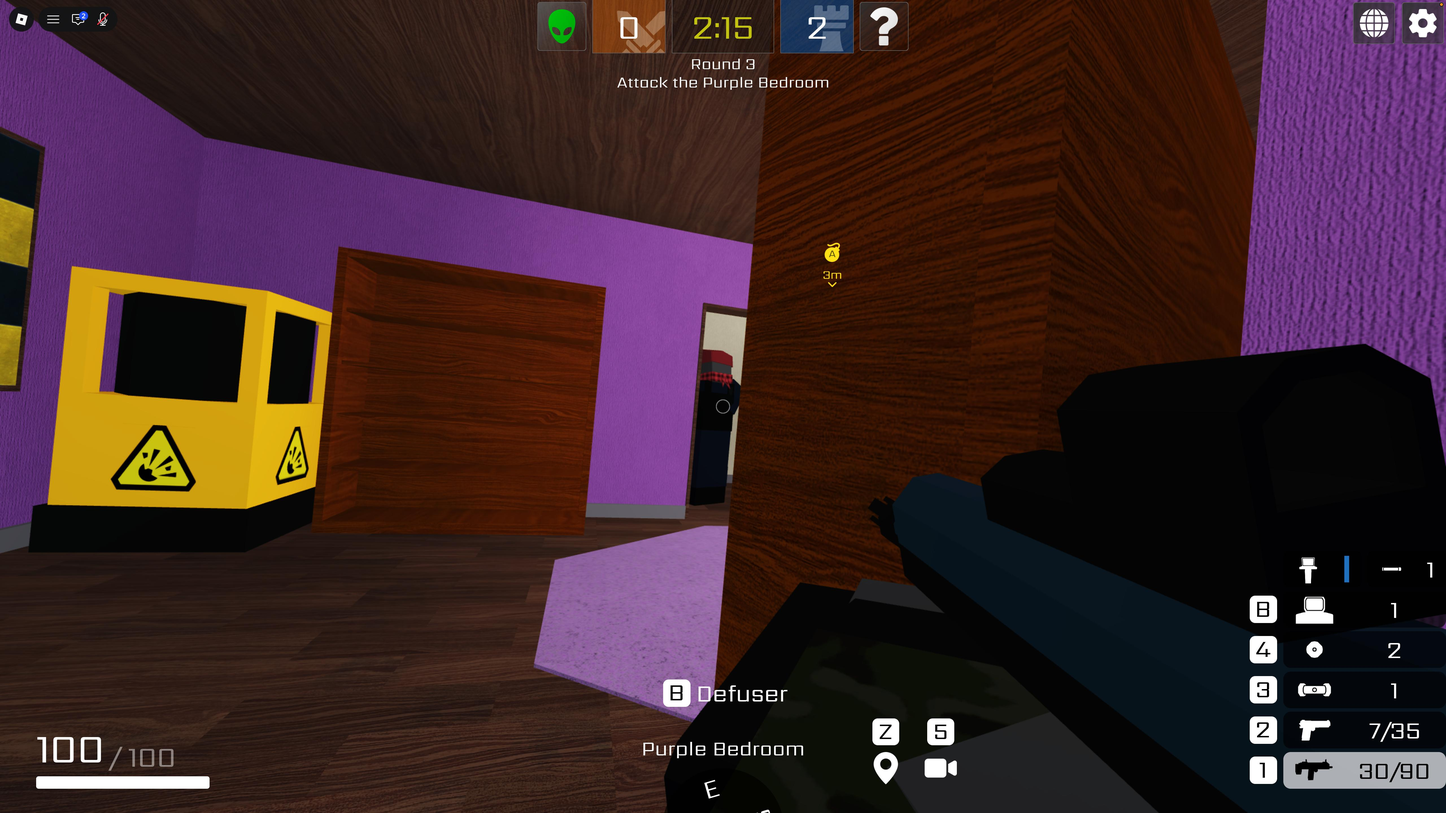enemy: (685, 340, 740, 516)
